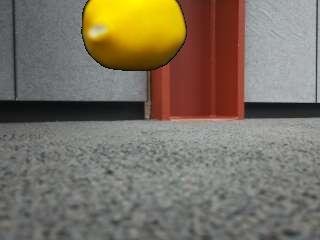lemon: (82, 1, 185, 72)
